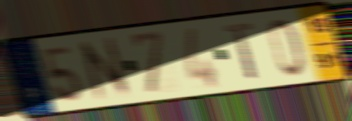0: (267, 17, 307, 78)
4: (185, 24, 221, 90)
5: (38, 43, 87, 103)
7: (130, 29, 168, 98)
N: (75, 34, 135, 105)
T: (221, 21, 261, 83)
